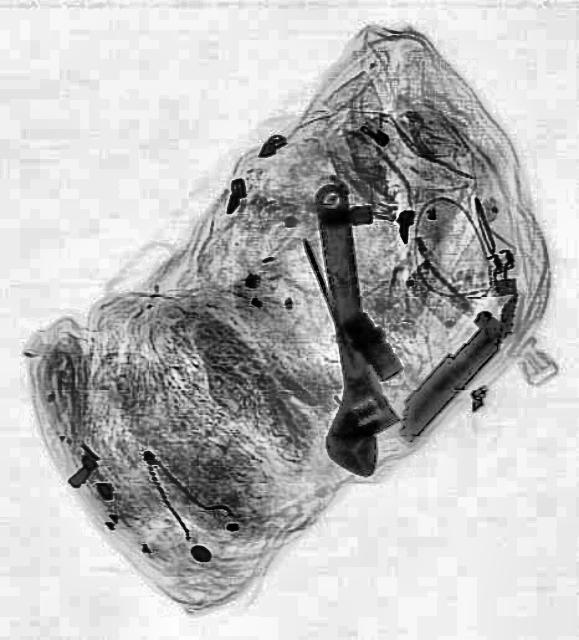Wrench: (295, 176, 405, 478)
